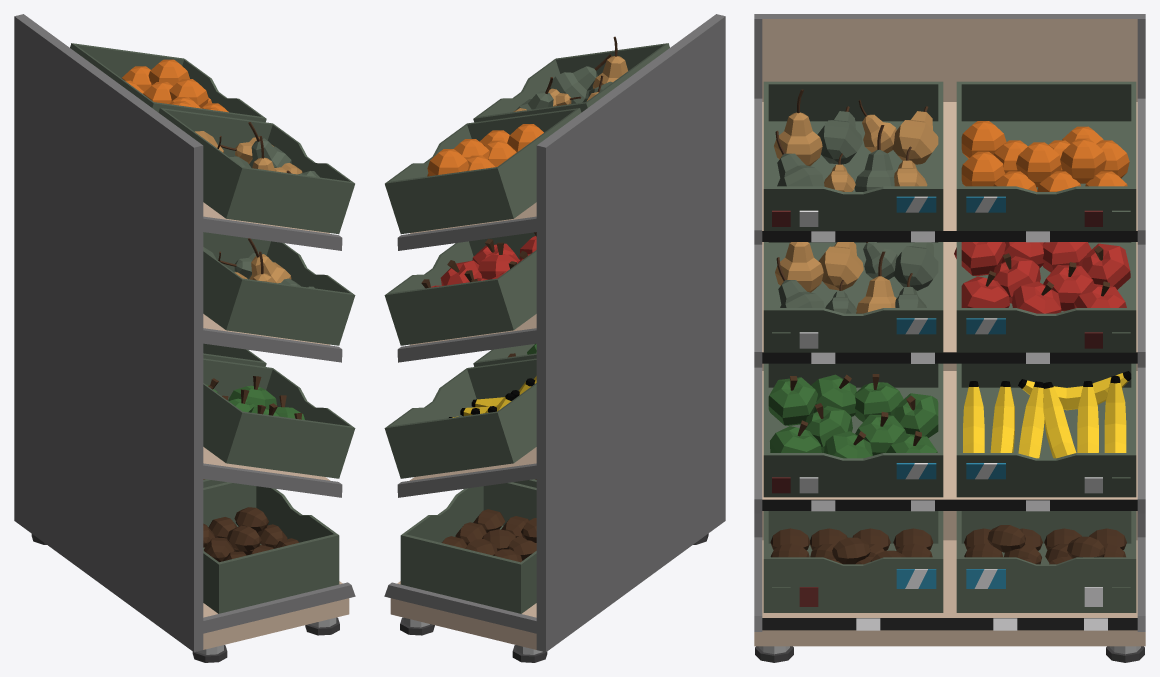
File: SM_fruitShelveBox_01.glb
3 renders of one model, left to right at view 1: azimuth 30°, elevation 25°; view 2: azimuth 150°, elevation 25°; view 3: azimuth 270°, elevation 25°, orthographic. The views are drawn at different scales.
Visible parts, largest first — view 1: SM_fruitShelveBox_01; view 2: SM_fruitShelveBox_01; view 3: SM_fruitShelveBox_01.
Part boxes in pixels (x1,y1,x2,y2): SM_fruitShelveBox_01: (14, 14, 355, 662); SM_fruitShelveBox_01: (384, 14, 725, 662); SM_fruitShelveBox_01: (754, 14, 1145, 662).
Bounding box in the file's own units: 0.533 × 1.6 × 1.
1 material, 1 textured.
